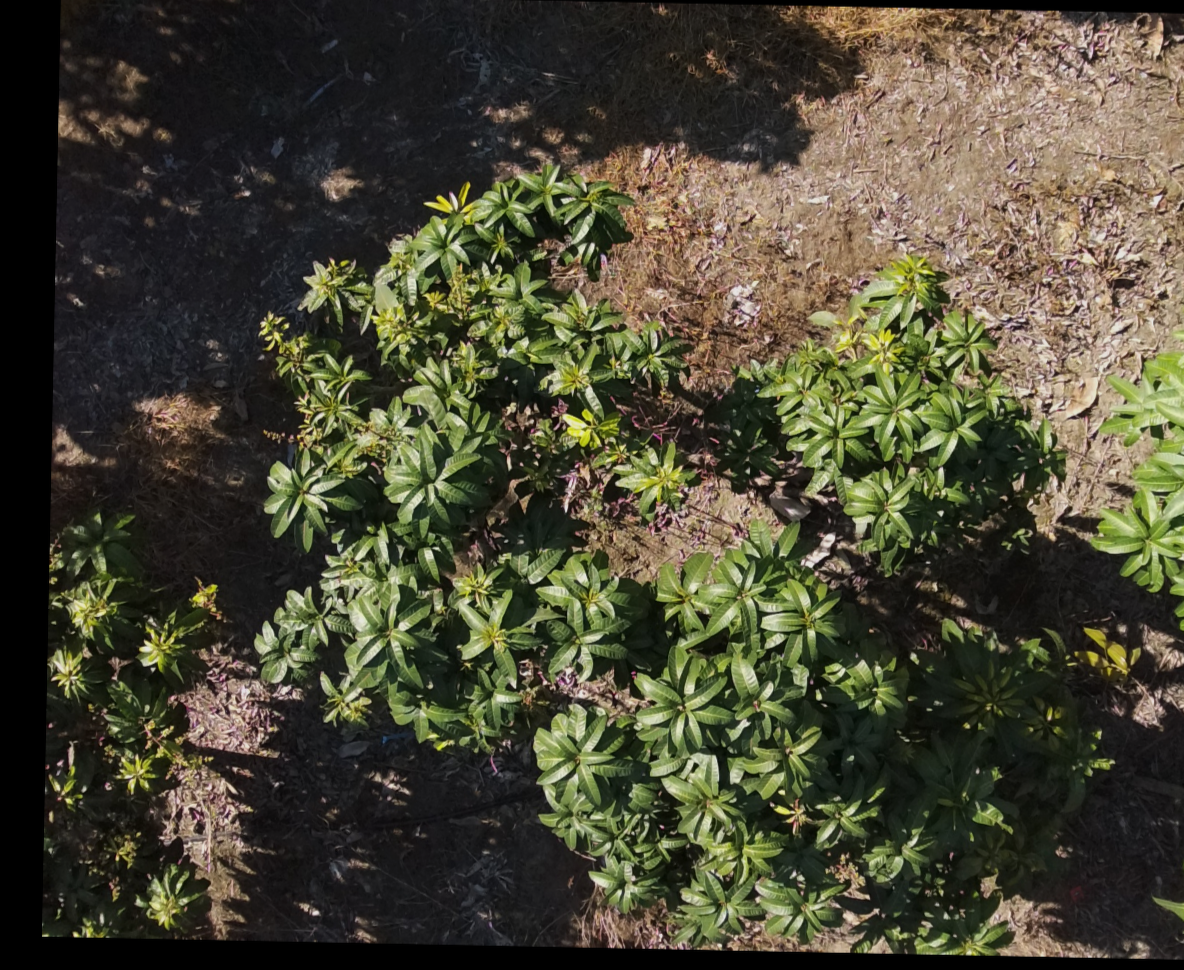flowers: (261, 315, 404, 476), (301, 260, 448, 371), (445, 265, 502, 391), (827, 853, 867, 895), (772, 796, 810, 835), (189, 581, 224, 619), (50, 541, 64, 574)
